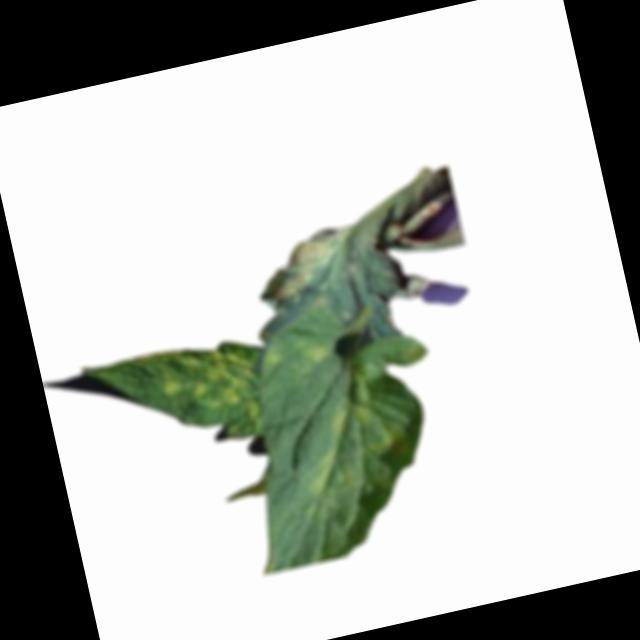Leaf_Mold: (292, 393, 409, 510), (154, 333, 264, 437), (254, 223, 364, 310), (297, 337, 338, 375)
